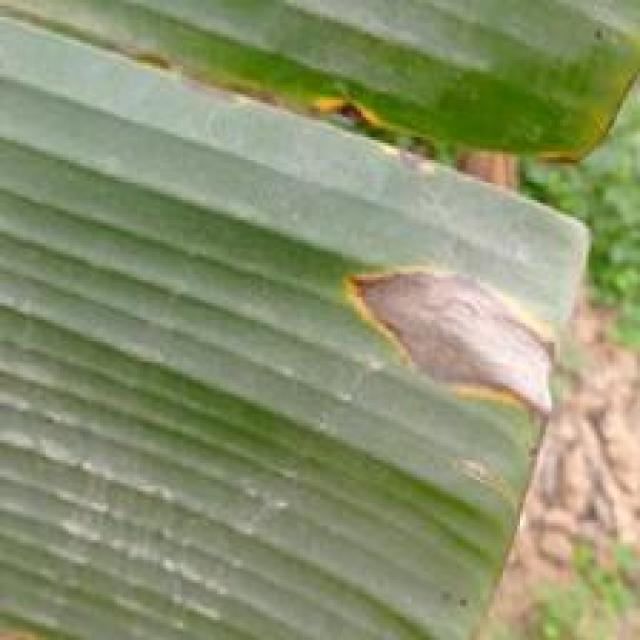Bacterial_spot: (338, 252, 553, 430), (438, 446, 525, 516), (304, 81, 388, 128), (534, 135, 594, 175), (128, 37, 184, 72)
